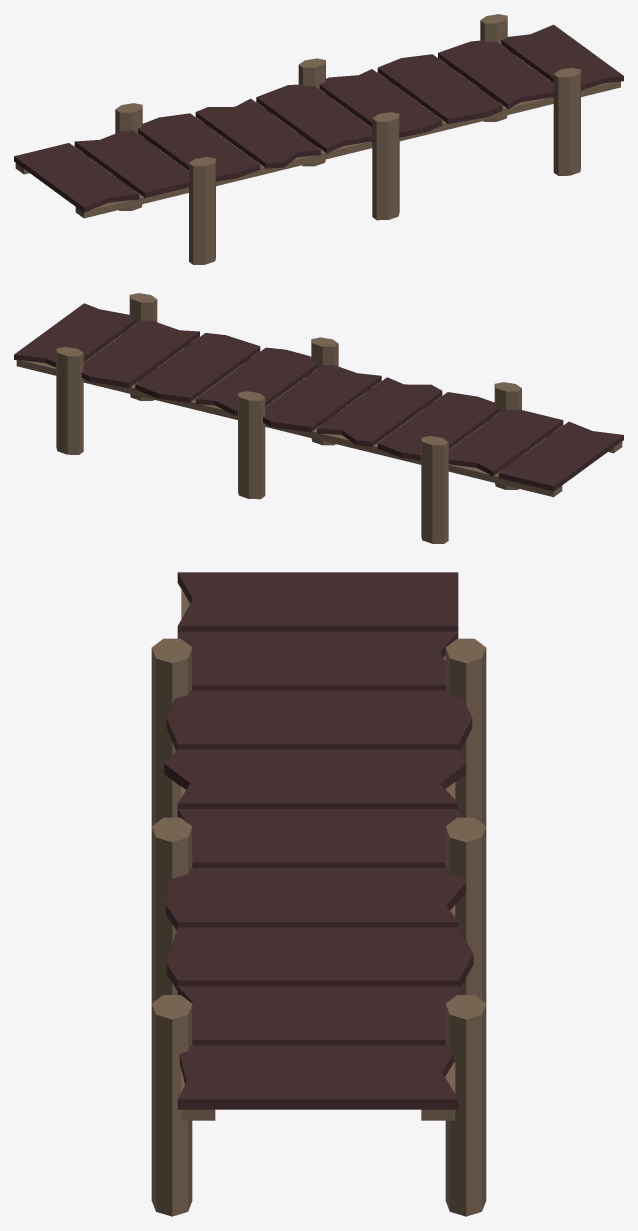
Rendered from Bridge_2.glb.
3 views of the same model, one above another, from view 1: azimuth 30°, elevation 25°; view 2: azimuth 150°, elevation 25°; view 3: azimuth 270°, elevation 25° (orthographic). The views are drawn at different scales.
Parts seen in each view (by area): view 1: Bridge 2; view 2: Bridge 2; view 3: Bridge 2.
Part boxes in pixels (<box>): Bridge 2: <box>14,14,623,264</box>; Bridge 2: <box>14,293,623,543</box>; Bridge 2: <box>151,572,486,1216</box>.
Size of the model in its own units: 9.56 by 1.67 by 2.56.
